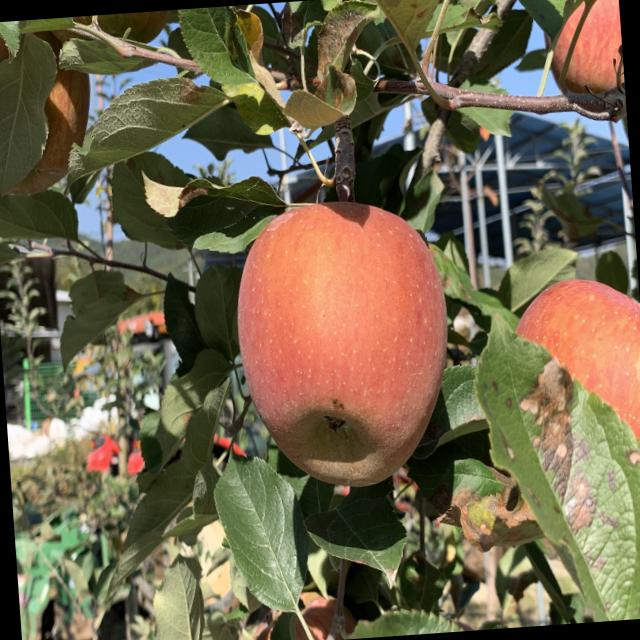fresh: (219, 182, 468, 508)
